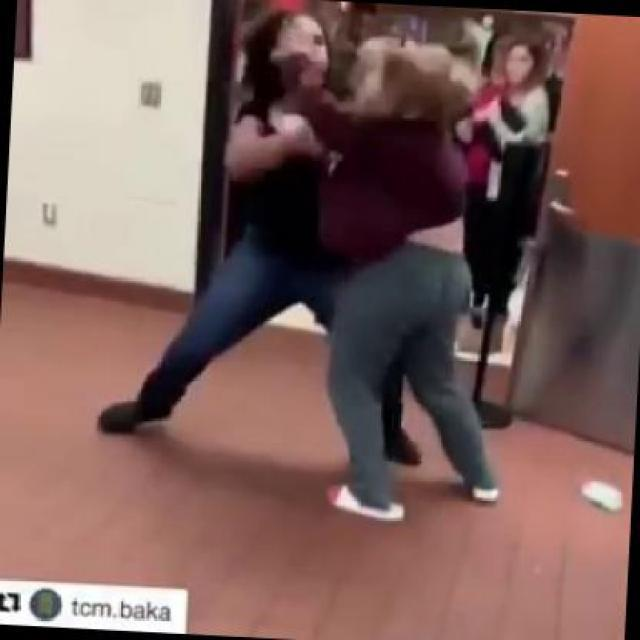fight: (182, 8, 524, 532)
